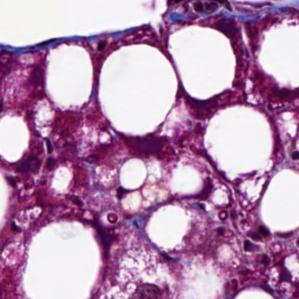inflammation: (194, 177, 269, 254), (110, 186, 130, 201)
